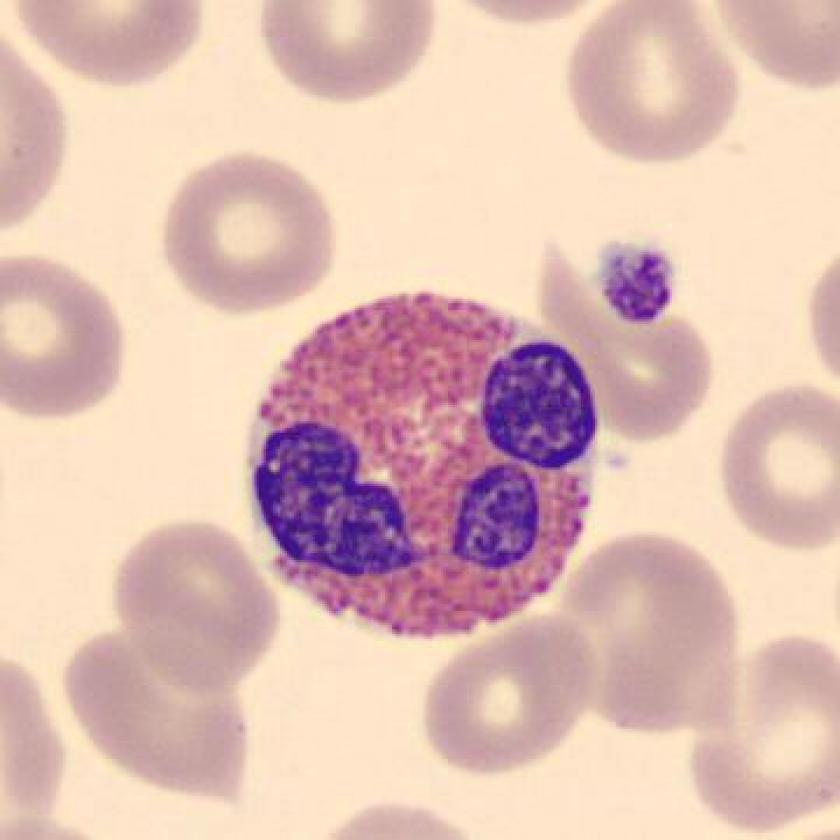eosinophil: (230, 274, 615, 665)
